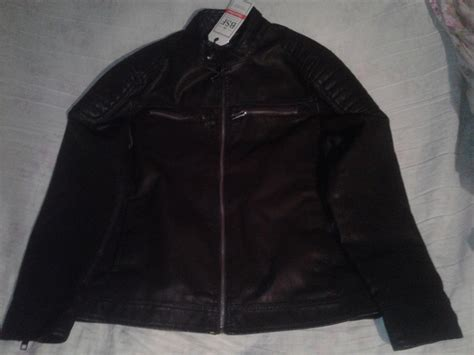cuero: (4, 7, 463, 352)
